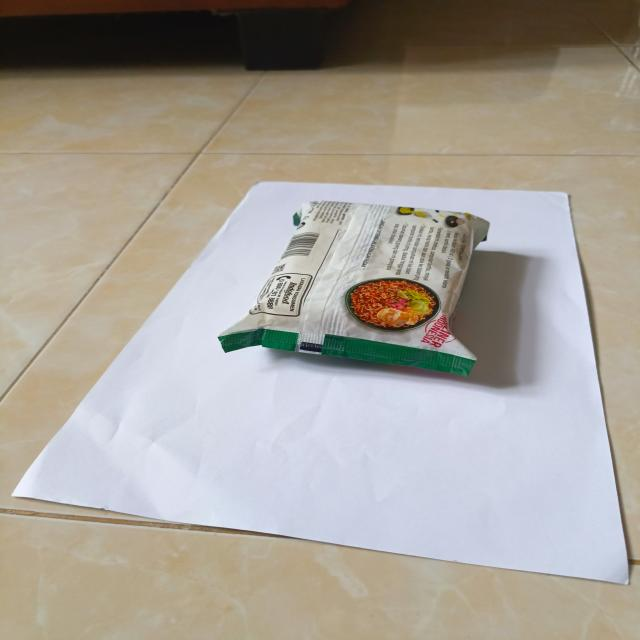gery-salut-coconut: (217, 200, 489, 383)
